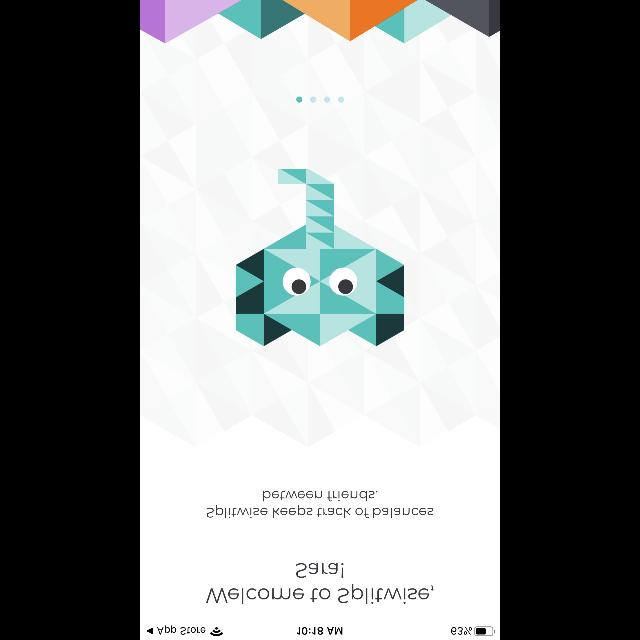image: (140, 0, 500, 448), (236, 170, 404, 346)
pageindicator: (296, 96, 344, 102)
text: (206, 562, 434, 604), (207, 490, 433, 518)
uppertaskbar: (140, 625, 500, 639)
